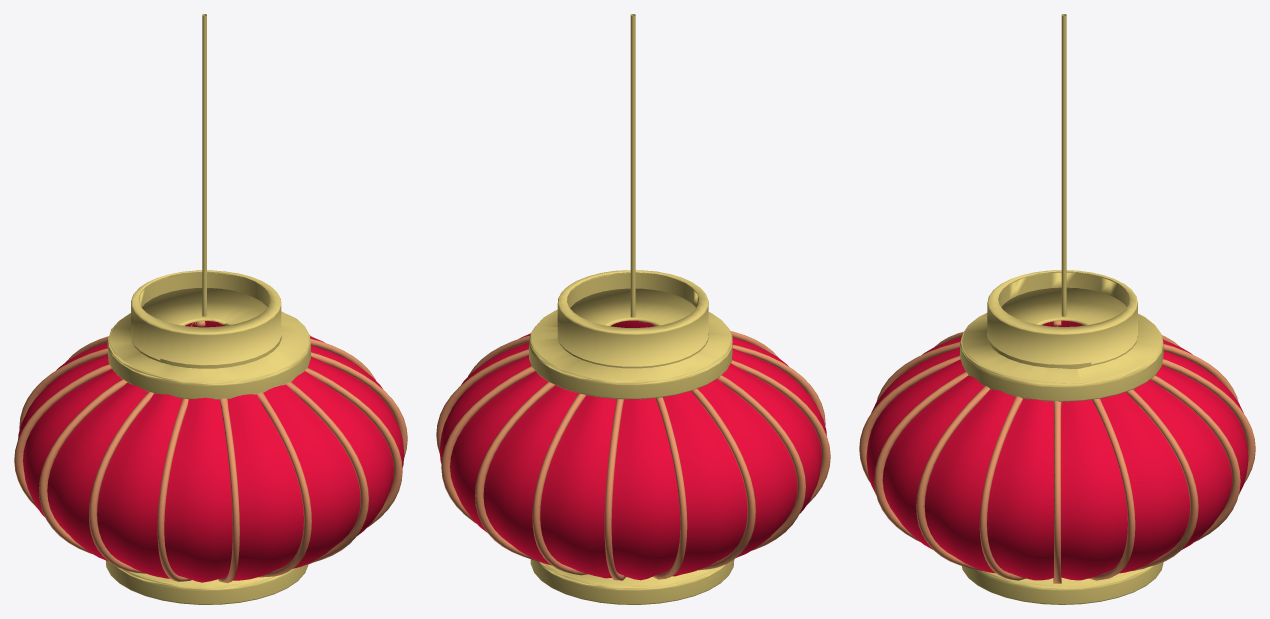
Rendered from CHINESE LANTERN.fbx.
The picture shows the model from 3 angles, left to right: view 1: azimuth 30°, elevation 25°; view 2: azimuth 150°, elevation 25°; view 3: azimuth 270°, elevation 25°; orthographic projection.
Parts seen in each view (by area): view 1: Sphere, Circle, Sphere.001; view 2: Sphere, Circle, Sphere.001; view 3: Sphere, Circle, Sphere.001.
Part boxes in pixels (<box>): Sphere: <box>18,321,404,582</box>; Circle: <box>105,14,310,604</box>; Sphere.001: <box>14,321,407,583</box>; Sphere: <box>439,320,826,580</box>; Circle: <box>529,14,734,604</box>; Sphere.001: <box>436,321,830,580</box>; Sphere: <box>866,320,1248,580</box>; Circle: <box>960,14,1163,604</box>; Sphere.001: <box>859,320,1255,583</box>.
Bounding box in the file's own units: 215 × 327 × 215.
